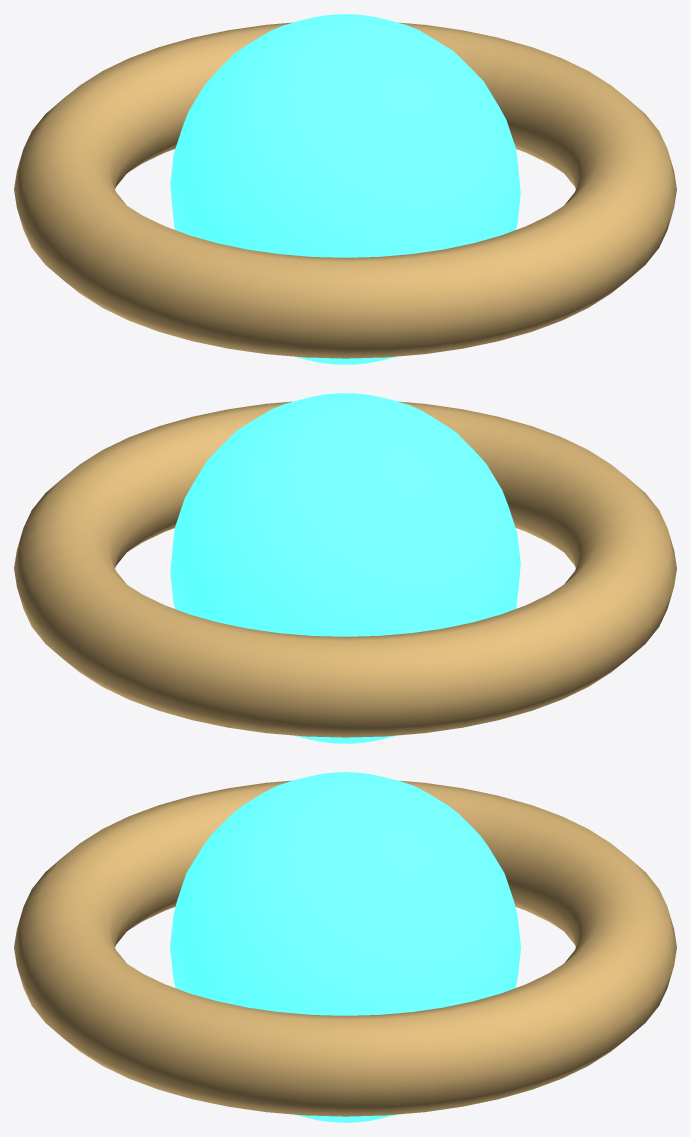
3 renders of one model, top to bottom at view 1: azimuth 30°, elevation 25°; view 2: azimuth 150°, elevation 25°; view 3: azimuth 270°, elevation 25°, orthographic.
Visible parts, largest first — view 1: orbital_ring_static_gold, energy_core_orbital_ring_spark_aurora_static; view 2: orbital_ring_static_gold, energy_core_orbital_ring_spark_aurora_static; view 3: orbital_ring_static_gold, energy_core_orbital_ring_spark_aurora_static.
Boxes of the visible parts, x1=… form: orbital_ring_static_gold: x1=14, y1=22, x2=676, y2=358; energy_core_orbital_ring_spark_aurora_static: x1=170, y1=14, x2=520, y2=364; orbital_ring_static_gold: x1=14, y1=401, x2=676, y2=737; energy_core_orbital_ring_spark_aurora_static: x1=170, y1=393, x2=520, y2=743; orbital_ring_static_gold: x1=14, y1=780, x2=676, y2=1116; energy_core_orbital_ring_spark_aurora_static: x1=170, y1=772, x2=520, y2=1122.
Size of the model in its own units: 3.78 by 2 by 3.78.
